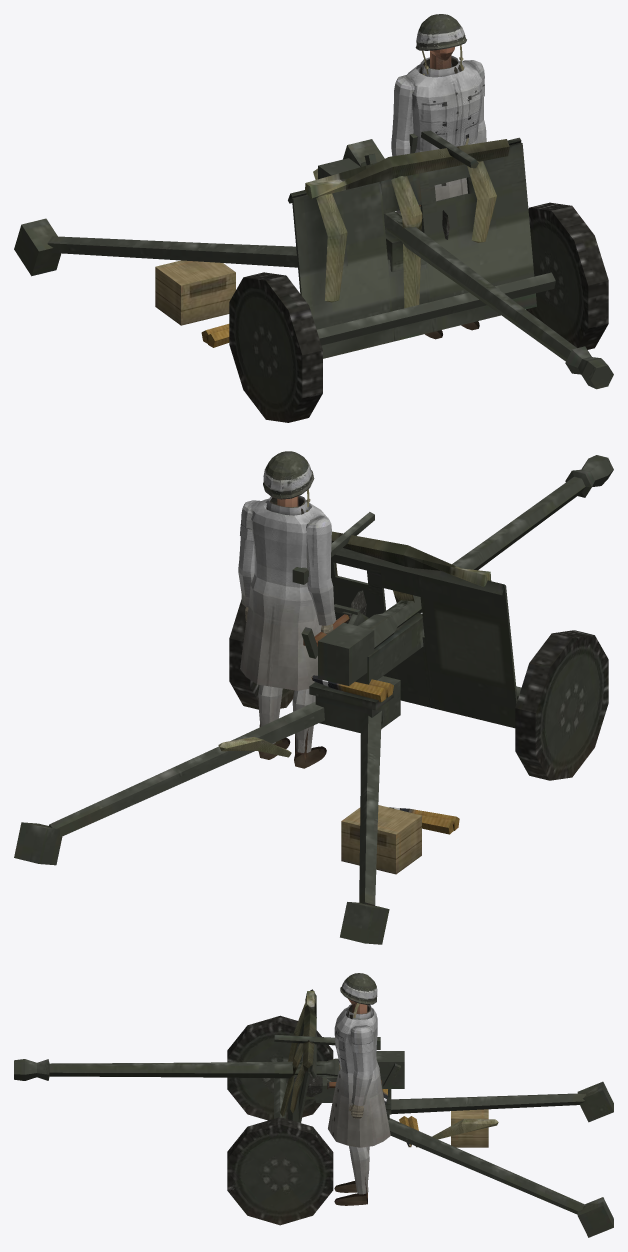
Rendered from atgun.glb.
The picture shows the model from 3 angles, top to bottom: view 1: azimuth 30°, elevation 25°; view 2: azimuth 150°, elevation 25°; view 3: azimuth 270°, elevation 25°; orthographic projection. The views are drawn at different scales.
Parts seen in each view (by area): view 1: atgun_LOD0; view 2: atgun_LOD0; view 3: atgun_LOD0.
Part boxes in pixels (x1,y1,x2,y2): atgun_LOD0: (14, 14, 613, 422); atgun_LOD0: (14, 451, 613, 944); atgun_LOD0: (14, 973, 613, 1237).
Size of what is drawn, in the model's own units: 2.11 by 1.81 by 4.3.
1 material, 1 textured.
